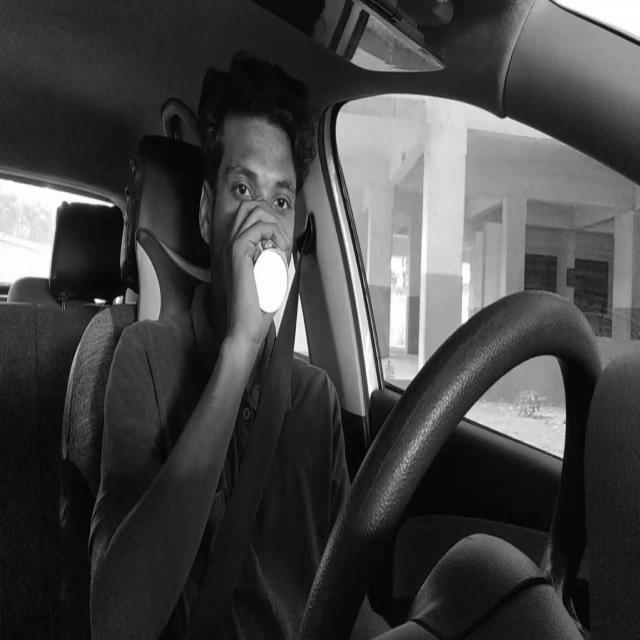Drinking: (236, 216, 294, 314)
